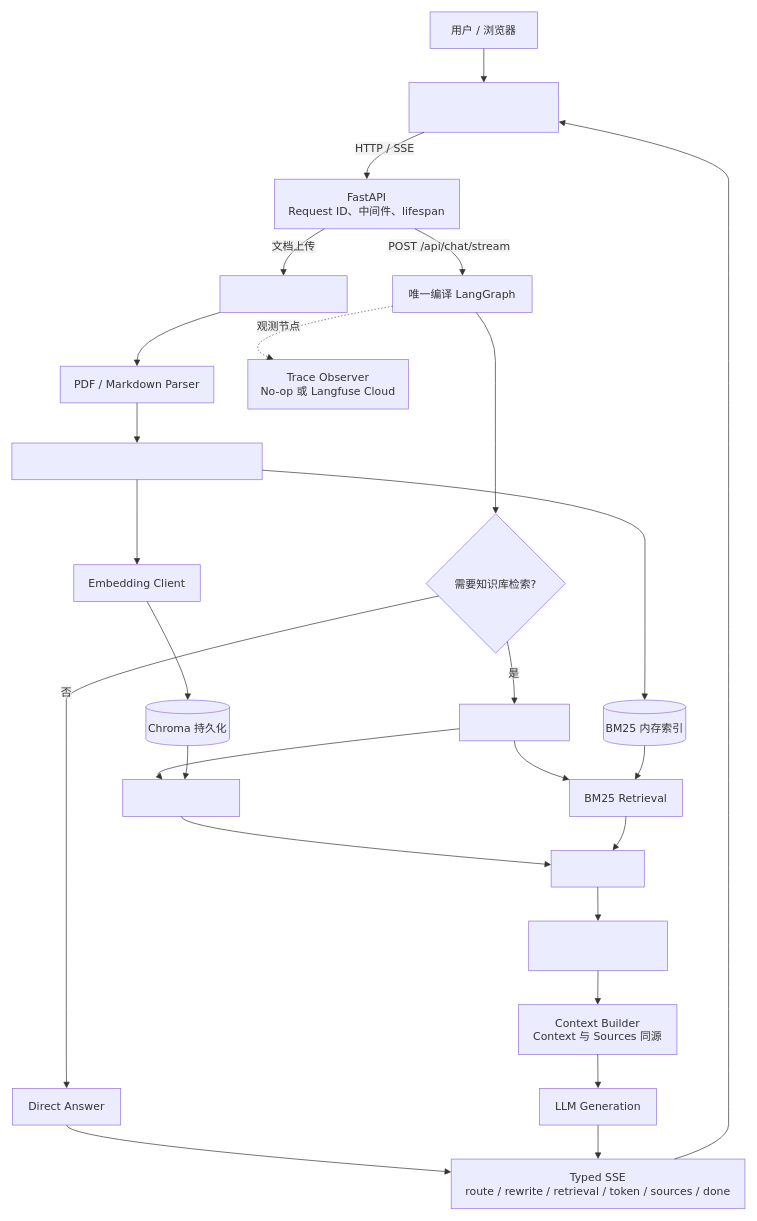
This 757x1221 diagram has some shape labels left out. Each missing label, with the centre of its shape:
Dense Retrieval: pixel 181 797
Ingestion Pipeline: pixel 283 293
Query Rewrite: pixel 514 722
Recursive / Heading / Page-aware Chunker: pixel 136 461
RRF Fusion: pixel 597 868
Streamlit 前端 上传、聊天、过程面板: pixel 483 107
可选 Reranker 失败则保留候选顺序: pixel 597 945
